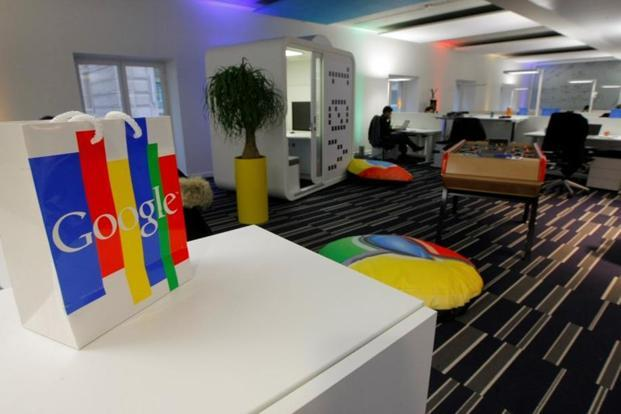google: (46, 191, 195, 256)
